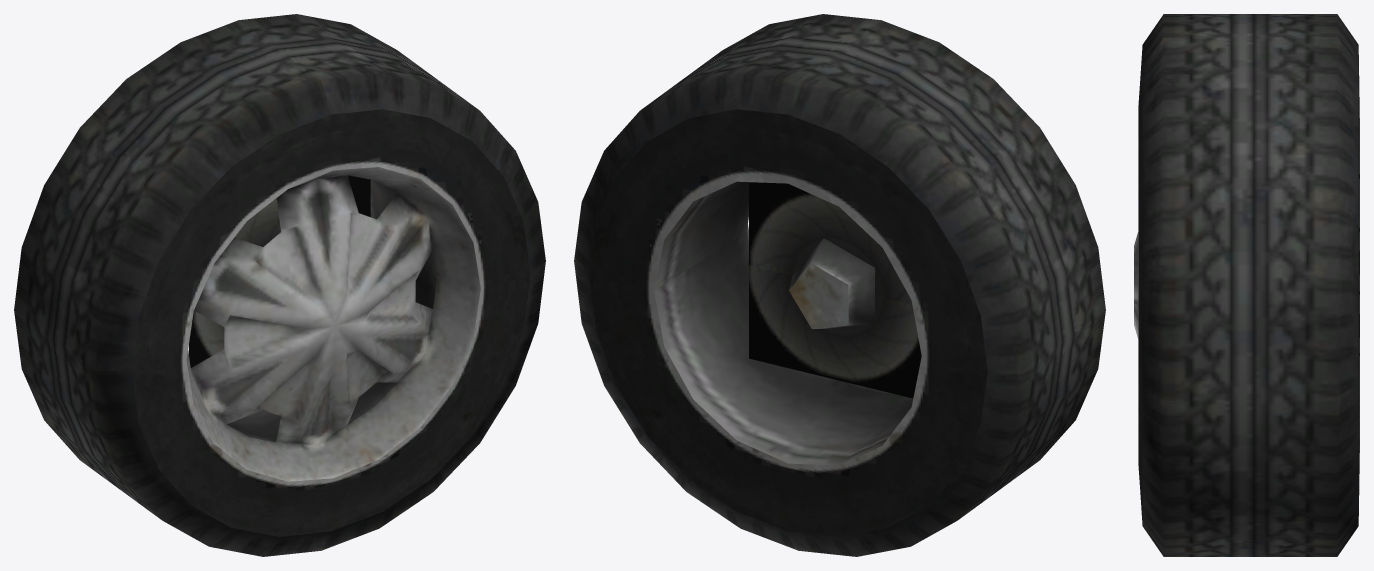
The model's file is v_a_classicmuscle_Wheels_15_SkeletalMesh3_SkeletalMesh_2.psk.glb.
3 renders of one model, left to right at view 1: azimuth 30°, elevation 25°; view 2: azimuth 150°, elevation 25°; view 3: azimuth 270°, elevation 25°, orthographic. The views are drawn at different scales.
Bounding box in the file's own units: 67.84 × 67.84 × 28.11.
Materials: 1 (1 with a texture image).
